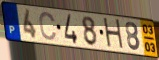4: (22, 8, 38, 41), (64, 14, 79, 45)
8: (81, 16, 99, 47), (125, 21, 141, 52)
C: (38, 11, 58, 42)
H: (102, 17, 126, 52)
